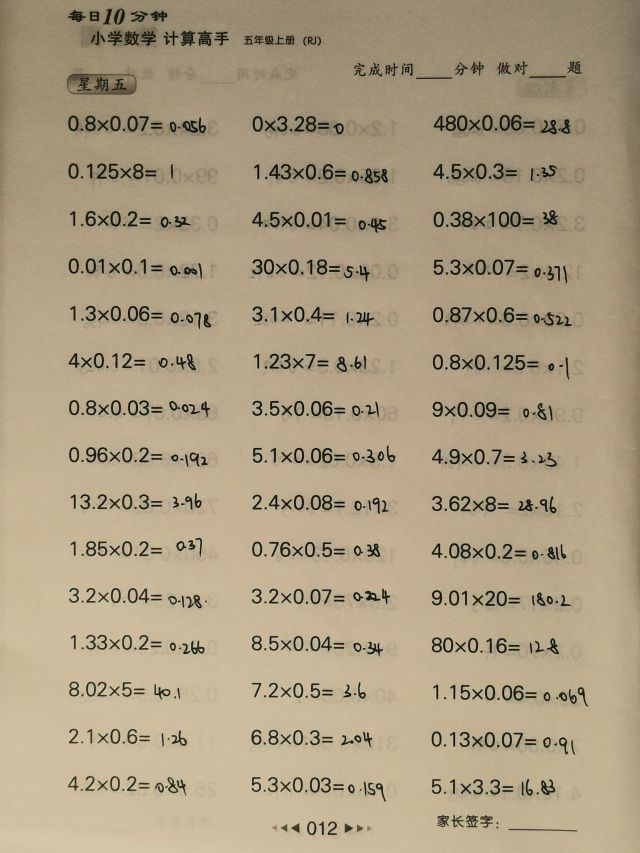equation: (61, 111, 211, 141), (427, 726, 579, 755), (428, 349, 574, 379), (429, 680, 591, 707), (246, 772, 390, 801), (429, 254, 572, 283), (65, 301, 215, 328), (247, 441, 399, 467), (65, 583, 210, 610), (247, 207, 390, 234), (64, 442, 211, 468), (428, 302, 575, 328), (250, 159, 391, 186), (66, 534, 206, 561), (429, 110, 574, 136), (247, 489, 391, 515), (64, 395, 213, 420), (66, 630, 208, 656), (428, 586, 575, 611), (428, 158, 559, 186), (249, 584, 395, 609), (246, 631, 386, 657), (425, 773, 559, 800), (63, 254, 206, 279), (247, 253, 373, 281), (427, 632, 562, 658), (428, 540, 571, 564), (428, 490, 560, 516), (247, 537, 384, 562), (64, 348, 199, 373), (66, 490, 205, 514), (428, 206, 561, 231), (247, 302, 378, 327), (247, 396, 383, 420), (246, 725, 375, 750), (428, 397, 556, 422), (66, 206, 194, 231), (427, 445, 560, 469), (64, 771, 190, 796), (65, 724, 191, 749), (249, 678, 370, 703), (64, 677, 185, 702), (249, 349, 369, 374), (64, 159, 178, 183), (247, 111, 348, 136)
